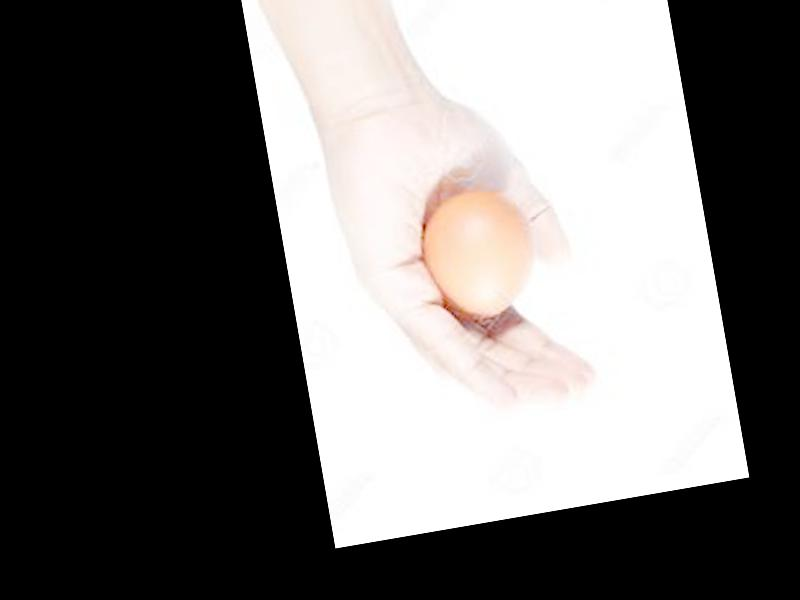Eggs: (417, 183, 542, 323)
